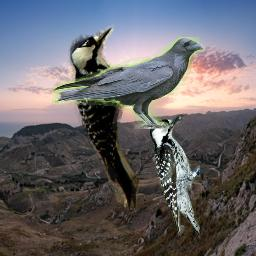Crow: (52, 37, 205, 129)
Woodpecker: (61, 21, 154, 225), (149, 113, 200, 238)
